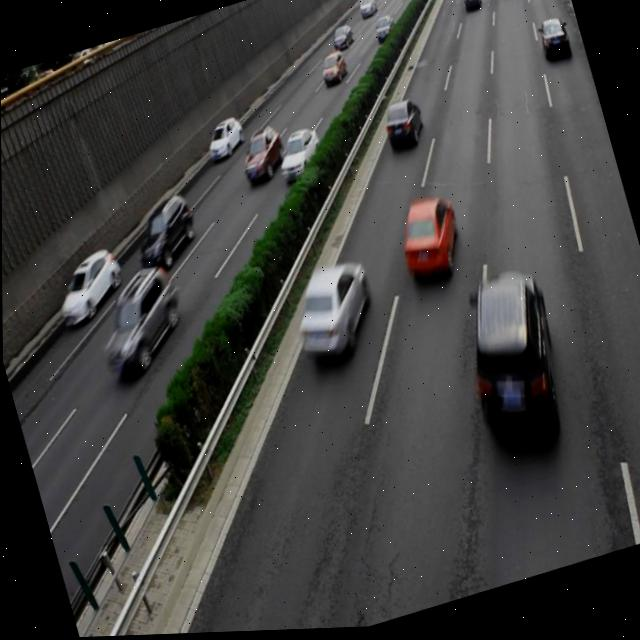car: (444, 266, 576, 462), (84, 260, 192, 382), (282, 257, 381, 371), (388, 193, 468, 290), (45, 245, 129, 329), (125, 189, 202, 274), (270, 125, 326, 187), (233, 125, 288, 187), (377, 98, 427, 156), (200, 115, 246, 164), (533, 17, 571, 68)
